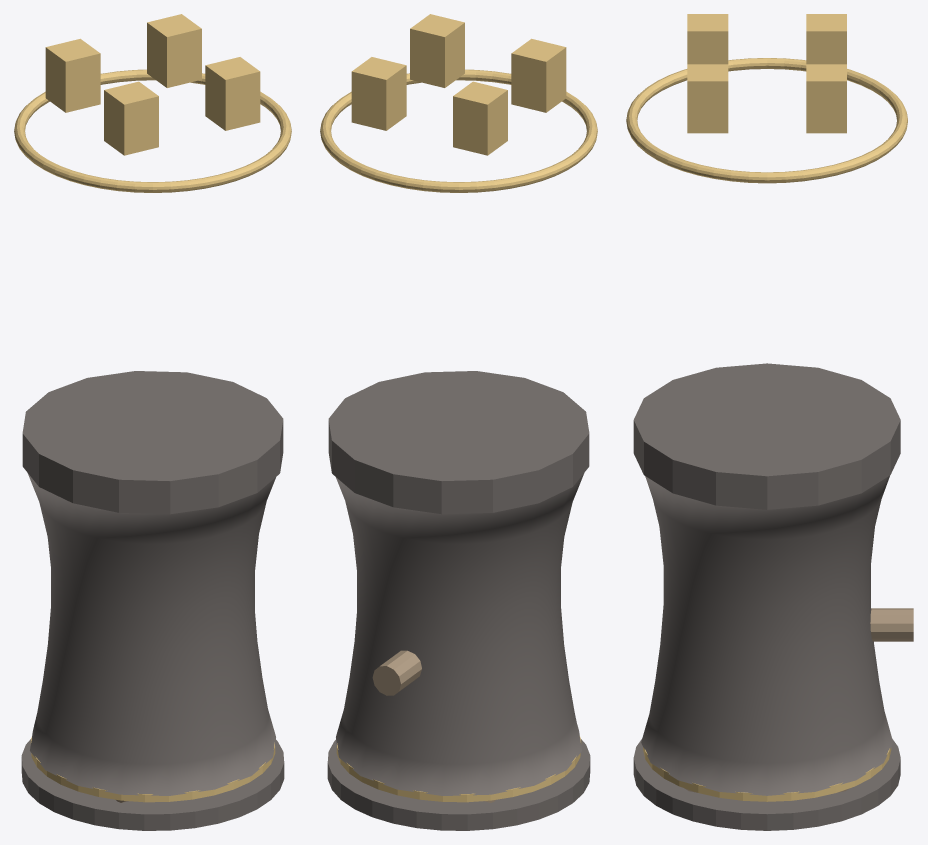
3 views of the same model, side by side, from view 1: azimuth 30°, elevation 25°; view 2: azimuth 150°, elevation 25°; view 3: azimuth 270°, elevation 25° (orthographic).
Parts seen in each view (by area): view 1: Durg_Bastion, Durg_Parapet, Plinth_Stone, Durg_CorniceRim, Durg_Crenel_1, Durg_Crenel_2, Durg_Crenel_0, Durg_Crenel_3, Plinth_GoldRim; view 2: Durg_Bastion, Durg_Parapet, Plinth_Stone, Durg_CorniceRim, Durg_Crenel_0, Durg_Crenel_3, Durg_Crenel_2, Durg_Crenel_1, Plinth_GoldRim, Durg_Ram; view 3: Durg_Bastion, Durg_Parapet, Plinth_Stone, Durg_CorniceRim, Durg_Crenel_1, Durg_Crenel_3, Durg_Crenel_0, Durg_Crenel_2, Plinth_GoldRim, Durg_Ram.
Boxes of the visible parts, <box> form: Durg_Bastion: <box>27,473,275,795</box>; Durg_Parapet: <box>22,371,283,514</box>; Plinth_Stone: <box>21,739,284,830</box>; Durg_CorniceRim: <box>14,69,291,192</box>; Durg_Crenel_1: <box>205,57,260,130</box>; Durg_Crenel_2: <box>45,38,100,112</box>; Durg_Crenel_0: <box>104,81,158,155</box>; Durg_Crenel_3: <box>147,14,201,87</box>; Plinth_GoldRim: <box>30,737,275,802</box>; Durg_Bastion: <box>336,473,584,795</box>; Durg_Parapet: <box>328,371,589,514</box>; Plinth_Stone: <box>327,739,590,830</box>; Durg_CorniceRim: <box>320,69,597,192</box>; Durg_Crenel_0: <box>511,38,566,112</box>; Durg_Crenel_3: <box>351,57,406,130</box>; Durg_Crenel_2: <box>453,81,507,155</box>; Durg_Crenel_1: <box>410,14,464,87</box>; Plinth_GoldRim: <box>336,736,581,802</box>; Durg_Ram: <box>372,650,421,695</box>; Durg_Bastion: <box>641,475,893,795</box>; Durg_Parapet: <box>633,363,900,509</box>; Plinth_Stone: <box>633,738,900,830</box>; Durg_CorniceRim: <box>626,58,907,183</box>; Durg_Crenel_1: <box>687,64,728,133</box>; Durg_Crenel_3: <box>806,64,846,133</box>; Durg_Crenel_0: <box>687,14,728,64</box>; Durg_Crenel_2: <box>806,14,846,64</box>; Plinth_GoldRim: <box>643,747,891,801</box>; Durg_Ram: <box>870,608,913,641</box>.
Bounding box in the file's own units: 0.76 × 2.16 × 0.775.
